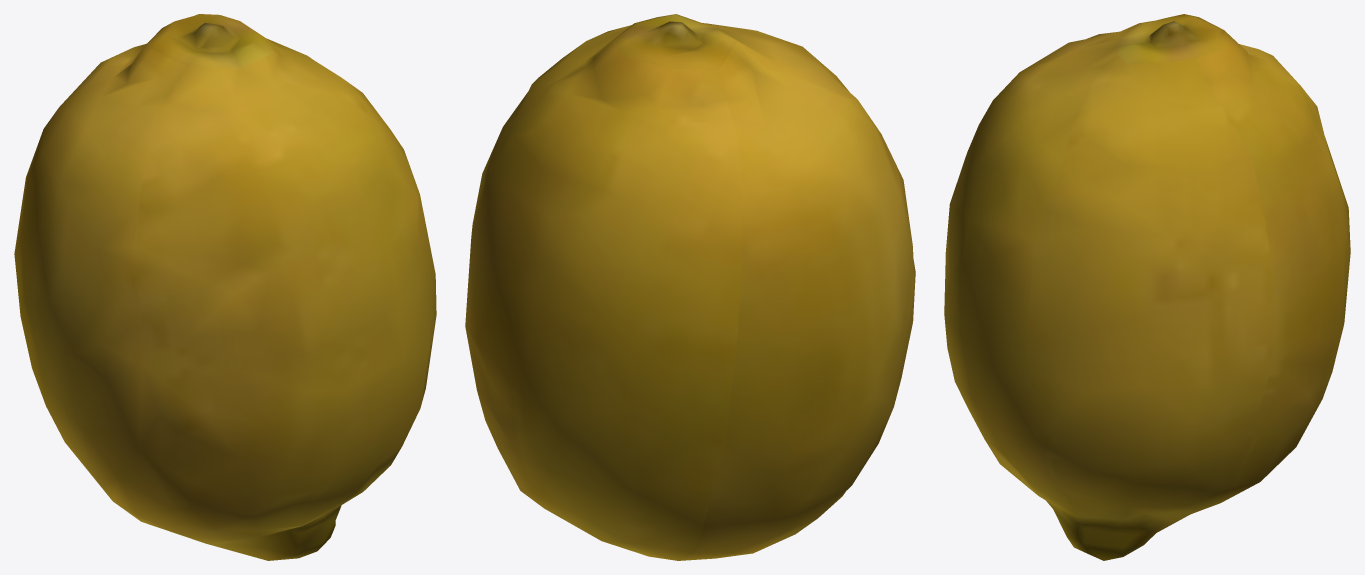
Rendered from lemon.low.glb.
The picture shows the model from 3 angles, left to right: view 1: azimuth 30°, elevation 25°; view 2: azimuth 150°, elevation 25°; view 3: azimuth 270°, elevation 25°; orthographic projection. The views are drawn at different scales.
Visible parts, largest first — view 1: body; view 2: body; view 3: body.
Part boxes in pixels (box(x1,y1,x2,y2)): body: box(14, 14, 436, 560); body: box(465, 14, 915, 560); body: box(944, 14, 1350, 560).
Bounding box in the file's own units: 0.0687 × 0.0949 × 0.0682.
Materials: 1 (1 with a texture image).
